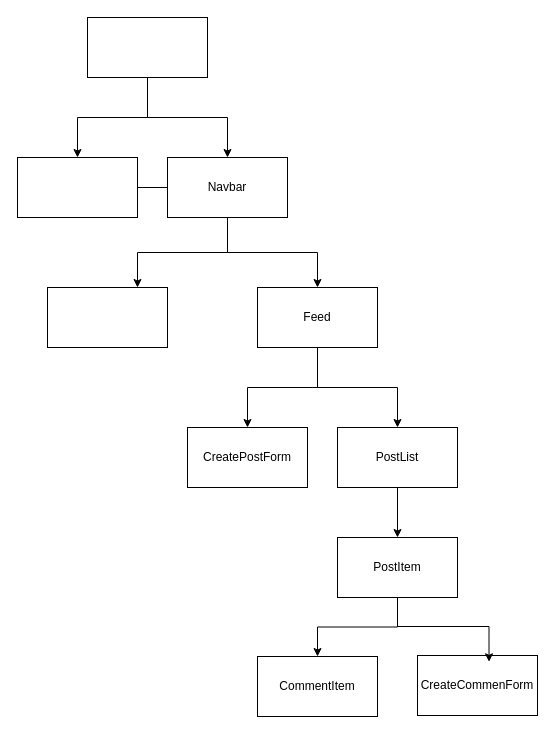
Some shapes in this 555 by 734 pixel diagram are drawn without their labels. Here are the shapes that lost their labels. From the top down, the centre of each, then its label:
(147,47): App
(77,187): Header
(107,317): Profile
